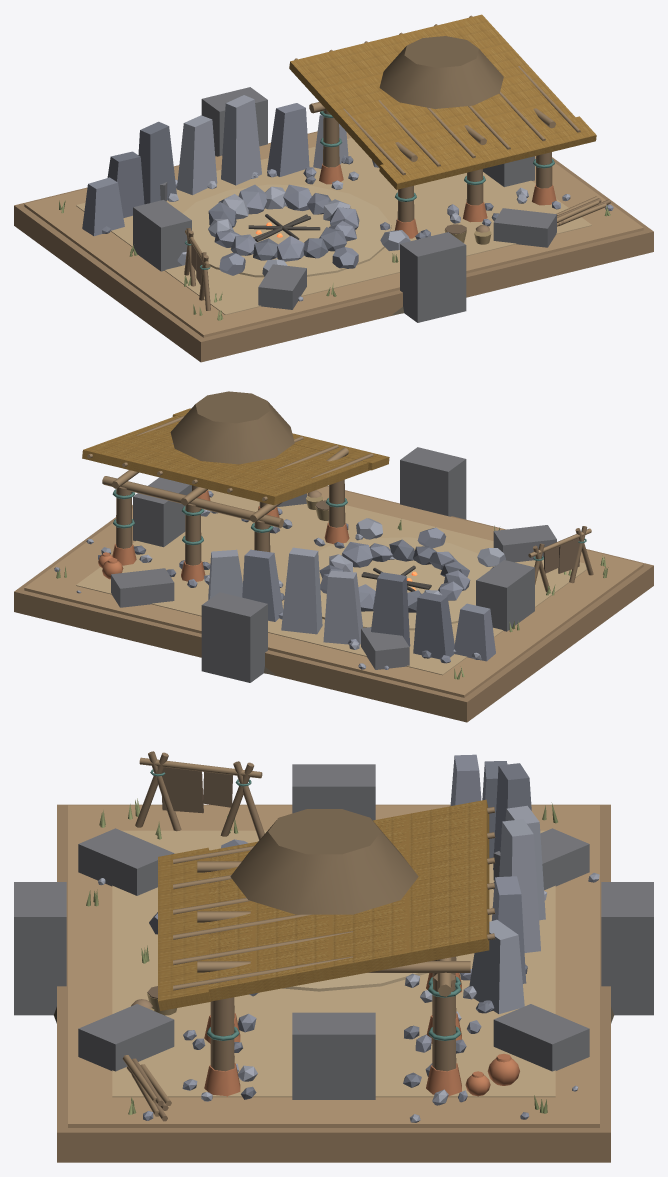
File: townhall-built.glb
3 views of the same model, one above another, from view 1: azimuth 30°, elevation 25°; view 2: azimuth 150°, elevation 25°; view 3: azimuth 270°, elevation 25° (orthographic). The views are drawn at different scales.
Visible parts, largest first — view 1: era1, Era1DepthKit; view 2: era1, Era1DepthKit; view 3: era1, Era1DepthKit.
Boxes of the visible parts, bbox=[...] form: era1: bbox=[14, 14, 653, 362]; Era1DepthKit: bbox=[133, 36, 556, 322]; era1: bbox=[14, 408, 653, 722]; Era1DepthKit: bbox=[111, 391, 556, 682]; era1: bbox=[57, 751, 610, 1162]; Era1DepthKit: bbox=[14, 764, 653, 1099].
Bounding box in the file's own units: 21 × 7.25 × 17.32.
32 materials, 2 textured.
